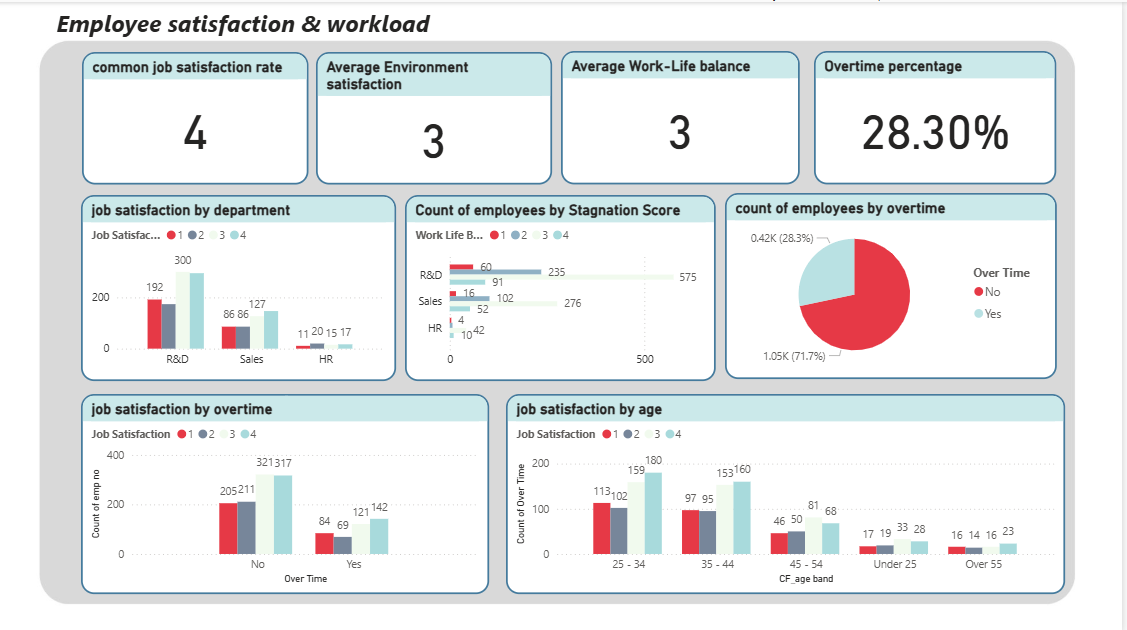

What the dashboard file says about the page in this screenshot:
{"tool":"powerbi","page":{"name":"Page 3","canvas":[1280,720],"ordinal":4},"visuals":[{"type":"card","title":"Average Environment satisfaction","fields":{"Values":["HR.Most common value for environment satisfacation"]},"box":[364.1,56.3,268.7,151.7],"z":0},{"type":"clusteredBarChart","title":"Count of employees by Stagnation Score","fields":{"Category":["HR.Department"],"Y":["CountNonNull(HR.emp no)"],"Series":["HR.Work Life Balance"]},"box":[462.3,219.6,354,212.4],"z":1000},{"type":"clusteredColumnChart","title":"job satisfaction by department","fields":{"Category":["HR.Department"],"Y":["CountNonNull(HR.emp no)"],"Series":["HR.Job Satisfaction"]},"box":[93.8,219.8,358.6,212],"z":2000},{"type":"pieChart","title":"count of employees by overtime","fields":{"Y":["CountNonNull(HR.emp no)"],"Category":["HR.Over Time"]},"box":[827.5,217.7,377.7,212.5],"z":3000},{"type":"clusteredColumnChart","title":"job satisfaction by overtime","fields":{"Category":["HR.Over Time"],"Series":["HR.Job Satisfaction"],"Y":["CountNonNull(HR.emp no)"]},"box":[93.9,446.4,465.2,228.3],"z":4000},{"type":"clusteredColumnChart","title":"job satisfaction by age","fields":{"Category":["HR.CF_age band"],"Y":["CountNonNull(HR.Over Time)"],"Series":["HR.Job Satisfaction"]},"box":[577.9,446.4,637.1,228.3],"z":5000},{"type":"card","title":"Average Work-Life balance","fields":{"Values":["HR.Most common value for work-life balance"]},"box":[640,56.3,271.6,151.7],"z":6000},{"type":"card","title":"Overtime percentage","fields":{"Values":["HR.Overtime %"]},"box":[928.9,56.3,275.9,151.7],"z":7000},{"type":"card","title":"common job satisfaction rate","fields":{"Values":["HR.Most common value for job satisfacation"]},"box":[93.9,56.3,257.2,151.7],"z":8000},{"type":"textbox","box":[84.8,0,532,68.1],"z":8001}]}

Visuals, with their boxes in screenshot pixels (x1, y1, x2, y2), scaled from the page's 1280x720 canvas onto the 1127x630 screenshot:
"Average Environment satisfaction" card: rect(321, 49, 557, 182)
"Count of employees by Stagnation Score" clusteredBarChart: rect(407, 192, 719, 378)
"job satisfaction by department" clusteredColumnChart: rect(83, 192, 398, 378)
"count of employees by overtime" pieChart: rect(729, 190, 1061, 376)
"job satisfaction by overtime" clusteredColumnChart: rect(83, 391, 492, 590)
"job satisfaction by age" clusteredColumnChart: rect(509, 391, 1070, 590)
"Average Work-Life balance" card: rect(564, 49, 803, 182)
"Overtime percentage" card: rect(818, 49, 1061, 182)
"common job satisfaction rate" card: rect(83, 49, 309, 182)
textbox: rect(75, 0, 543, 60)
